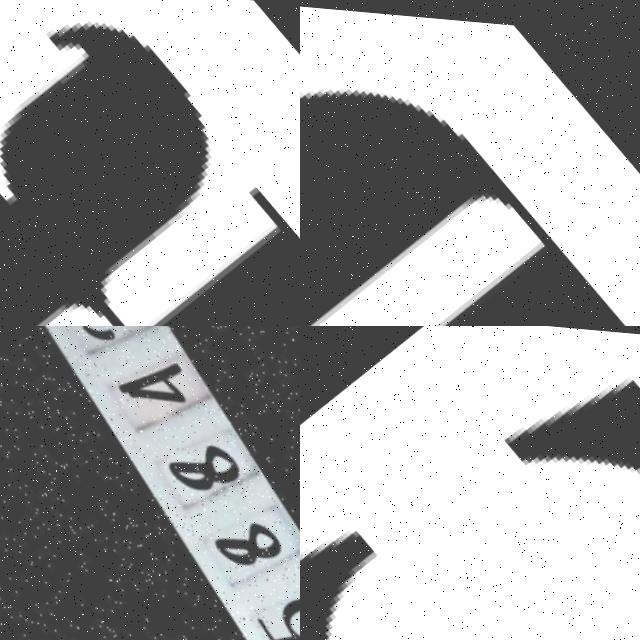2: (52, 326, 167, 370)
4: (99, 331, 212, 443)
5: (228, 558, 300, 640)
8: (140, 407, 261, 526), (188, 489, 299, 598)
D: (300, 0, 640, 326)
R: (0, 0, 300, 326)
